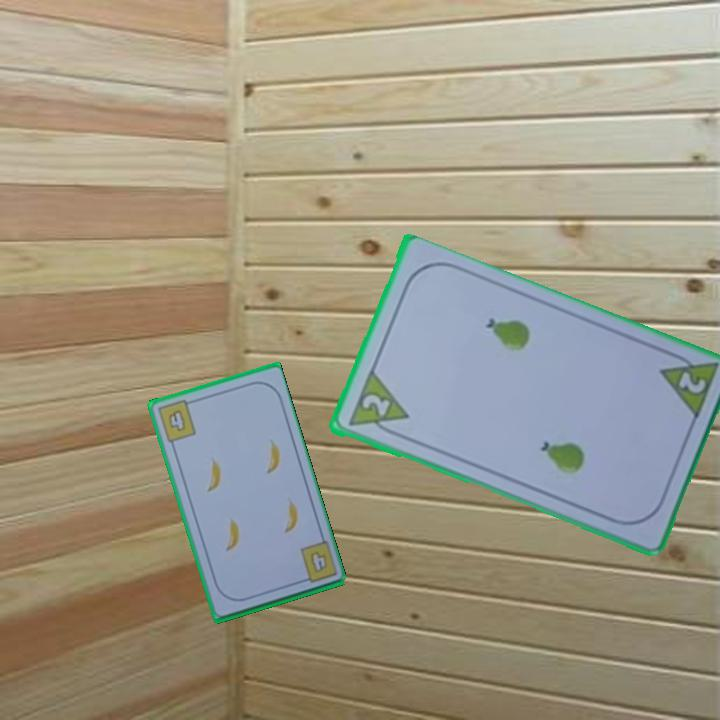2p: (357, 390, 393, 420), (673, 368, 709, 397)
4b: (154, 396, 199, 445), (306, 547, 330, 576)
